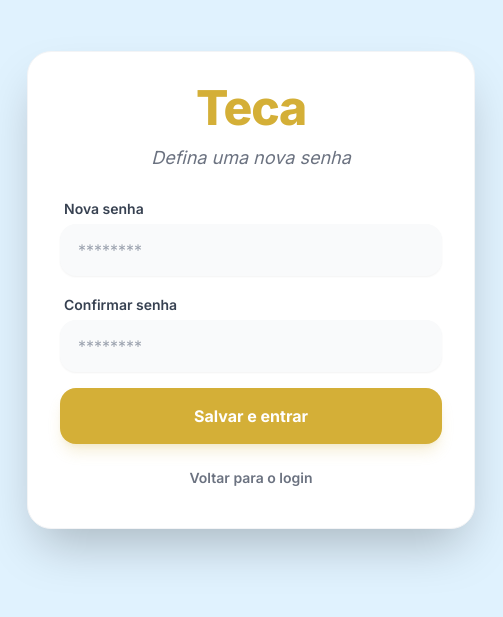
ResetPasswordScreen — definir nova senha (status="valid") › anuncia o erro para leitores de tela (role="alert" com aria-live="polite")
This screenshot has width=503, height=617.
In the 1st password field with placeholder "********": point(251, 250) [60,224,442,276], type "1234567"
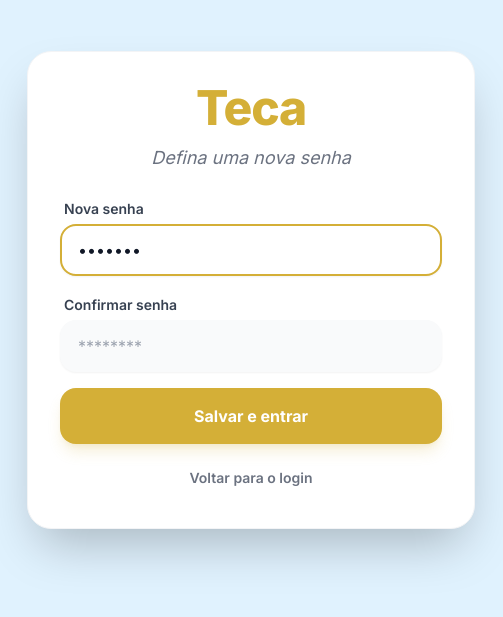
In the password field with placeholder "********": point(251, 346) [60,320,442,372], type "1234567"
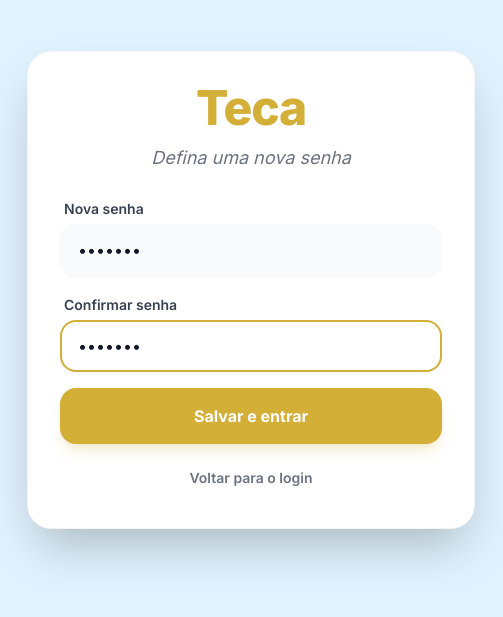
Click the button "Salvar e entrar": point(251, 416) [60,388,442,444]
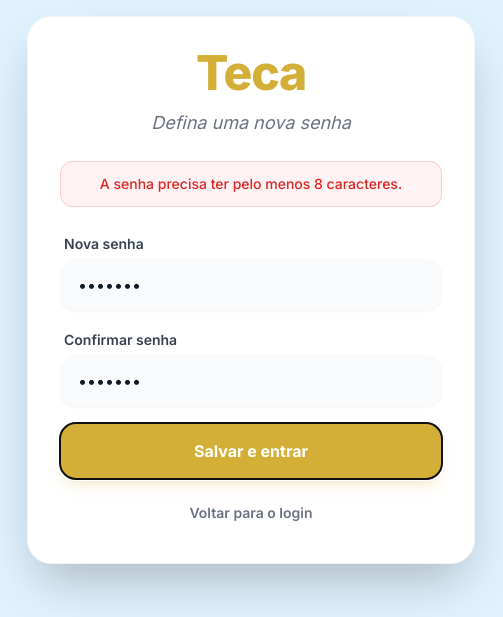
Result: the text "A senha precisa ter pelo menos 8 caracteres." is shown at [60,161,442,207]
